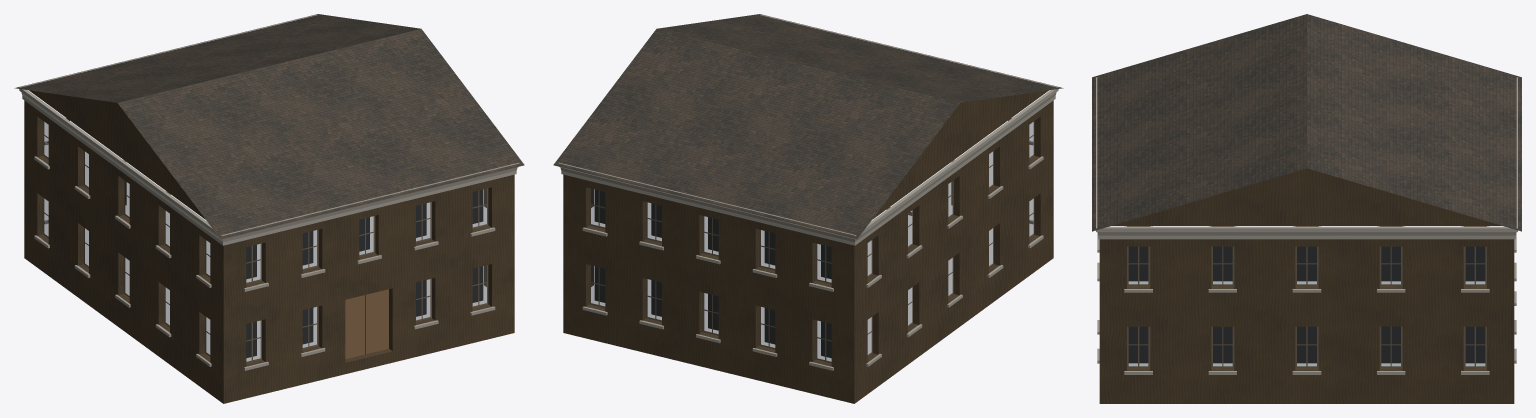
The model's file is match_factory_1871__factory_1865_1871.glb.
3 renders of one model, left to right at view 1: azimuth 30°, elevation 25°; view 2: azimuth 150°, elevation 25°; view 3: azimuth 270°, elevation 25°, orthographic. The views are drawn at different scales.
Visible parts, largest first — view 1: match_factory_1871__factory_1865_1871; view 2: match_factory_1871__factory_1865_1871; view 3: match_factory_1871__factory_1865_1871.
Part boxes in pixels (left/top/right/bottom): match_factory_1871__factory_1865_1871: left=14, top=14, right=524, bottom=403; match_factory_1871__factory_1865_1871: left=553, top=14, right=1063, bottom=403; match_factory_1871__factory_1865_1871: left=1092, top=14, right=1521, bottom=403.
Size of the model in its own units: 14.1 by 10.18 by 16.6.
8 materials, 2 textured.
